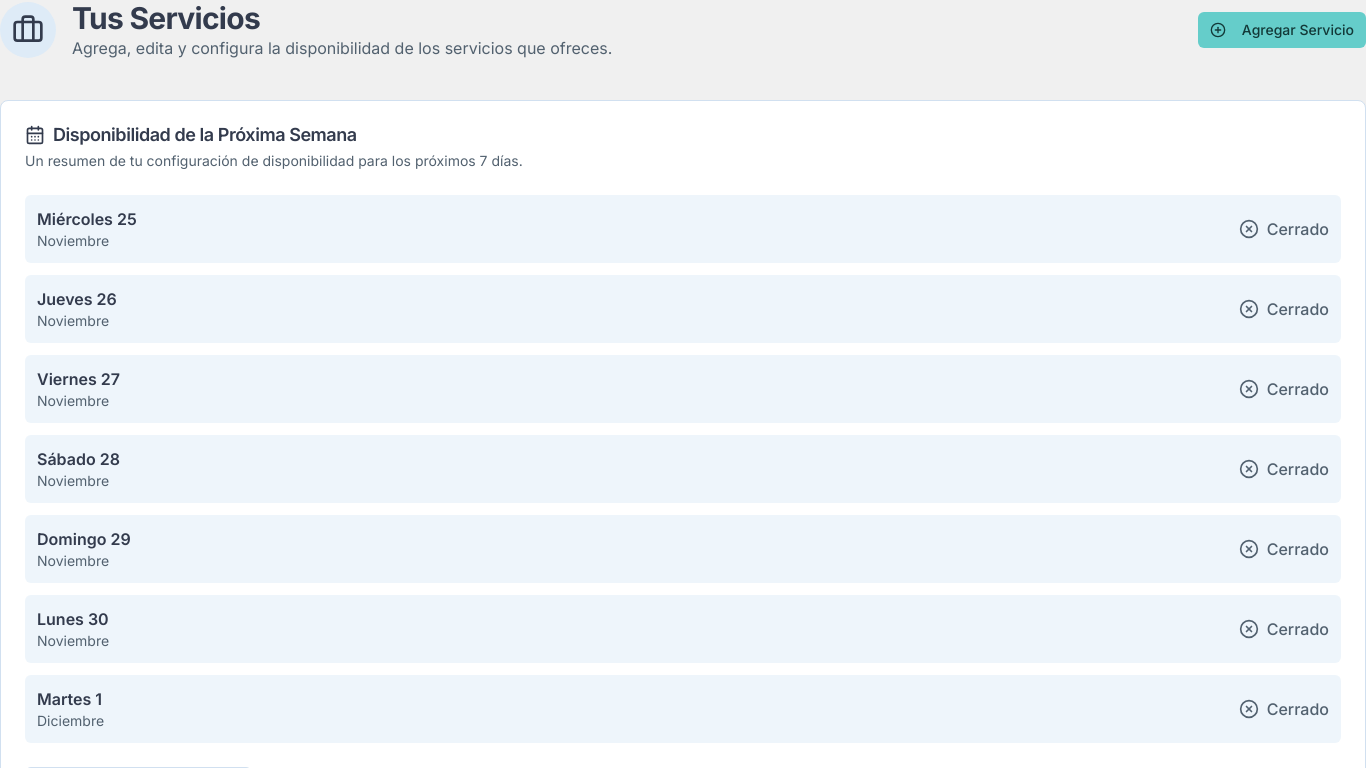
Scenario: ServiciosPage: alta, horarios y activación › crea un servicio pausado sin ofrecer un estado imposible
Later steps or results of the test are not shown.
Click the button "Agregar Servicio".
click(1282, 30)  # box [1198,12,1365,48]
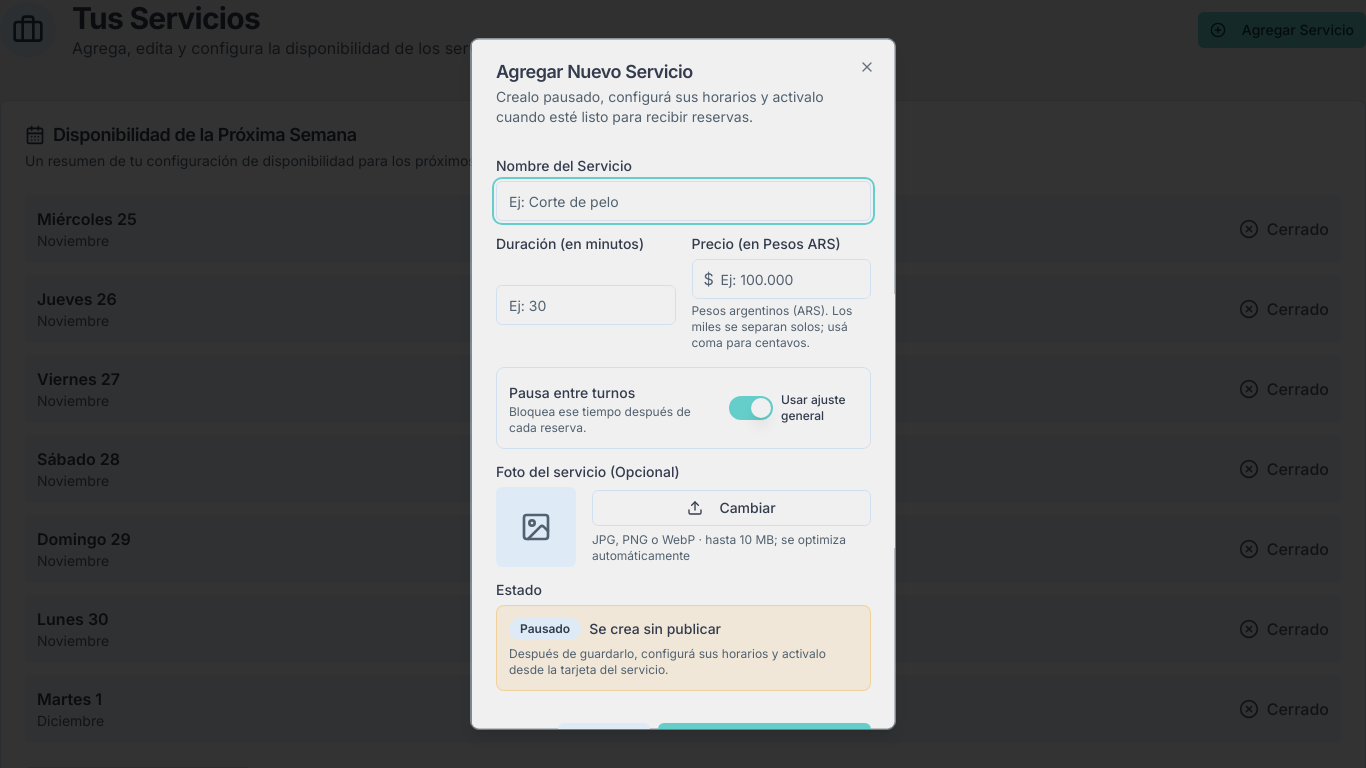
expect the message shows "Se crea sin publicar": met, box [589,620,721,637]
